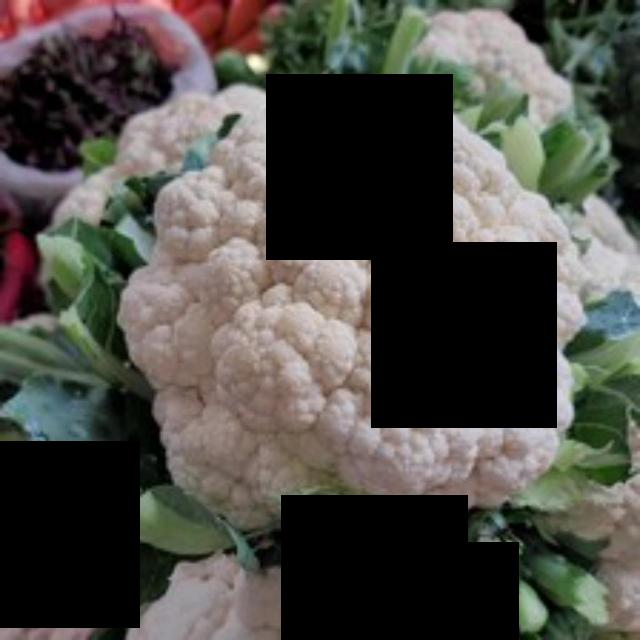cauliflower: (105, 83, 603, 536)
